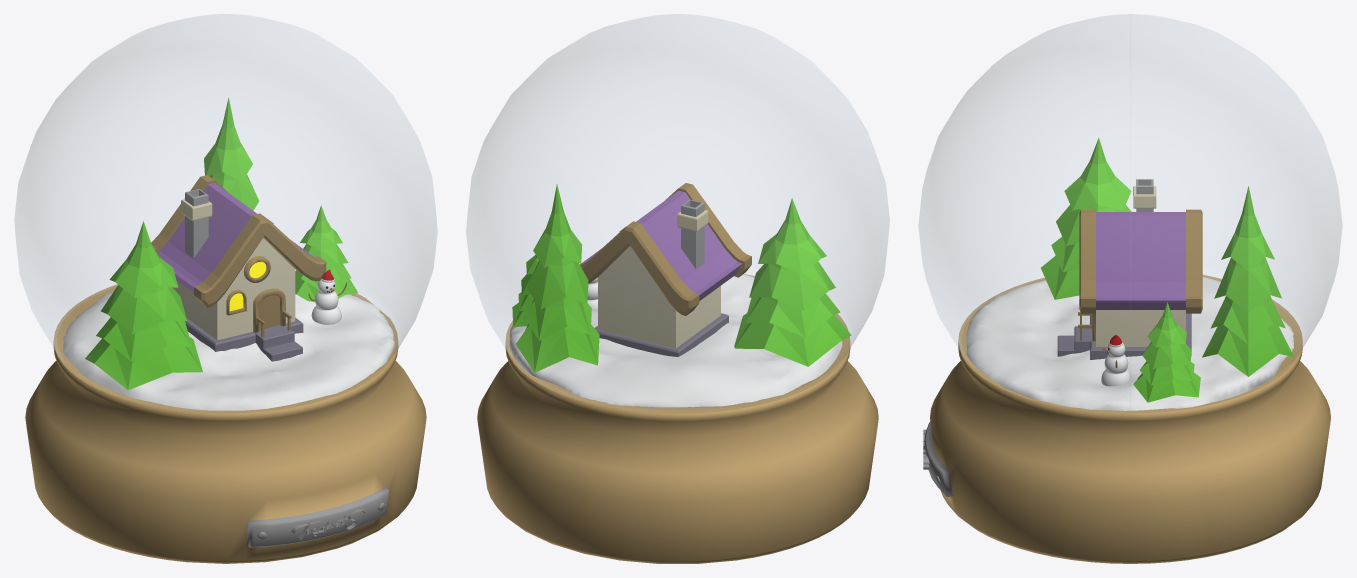
3 renders of one model, left to right at view 1: azimuth 30°, elevation 25°; view 2: azimuth 150°, elevation 25°; view 3: azimuth 270°, elevation 25°, orthographic.
Visible parts, largest first — view 1: centre; view 2: centre; view 3: centre.
Part boxes in pixels (x1,y1,x2,y2): centre: (14,14,437,563); centre: (466,14,889,563); centre: (918,14,1342,563).
Size of the model in its own units: 1.09 by 1.28 by 1.09.
